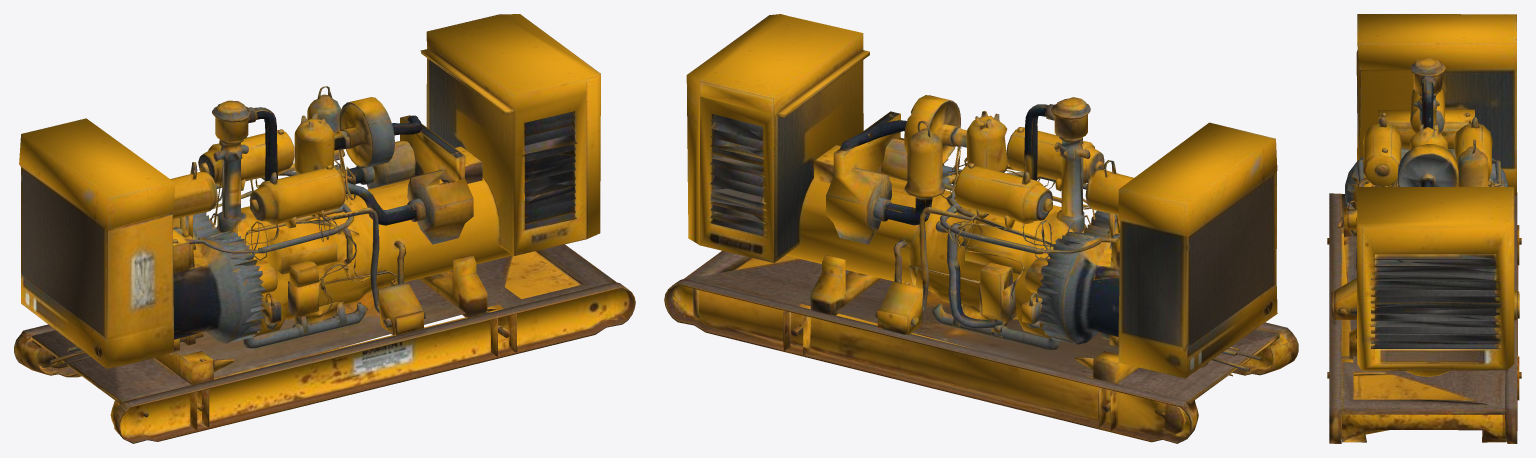
File: annex-genset.glb
The picture shows the model from 3 angles, left to right: view 1: azimuth 30°, elevation 25°; view 2: azimuth 150°, elevation 25°; view 3: azimuth 270°, elevation 25°; orthographic projection. The views are drawn at different scales.
Parts seen in each view (by area): view 1: annex-genset; view 2: annex-genset; view 3: annex-genset.
Boxes of the visible parts, <box> form: annex-genset: <box>14,14,635,443</box>; annex-genset: <box>664,14,1298,443</box>; annex-genset: <box>1327,14,1521,443</box>.
Bounding box in the file's own units: 3.5 × 1.68 × 1.24.
Materials: 1 (1 with a texture image).
